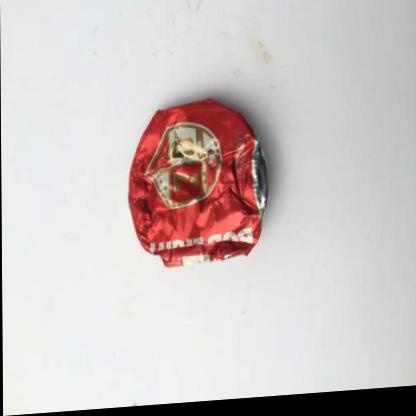trash: (129, 99, 266, 266)
